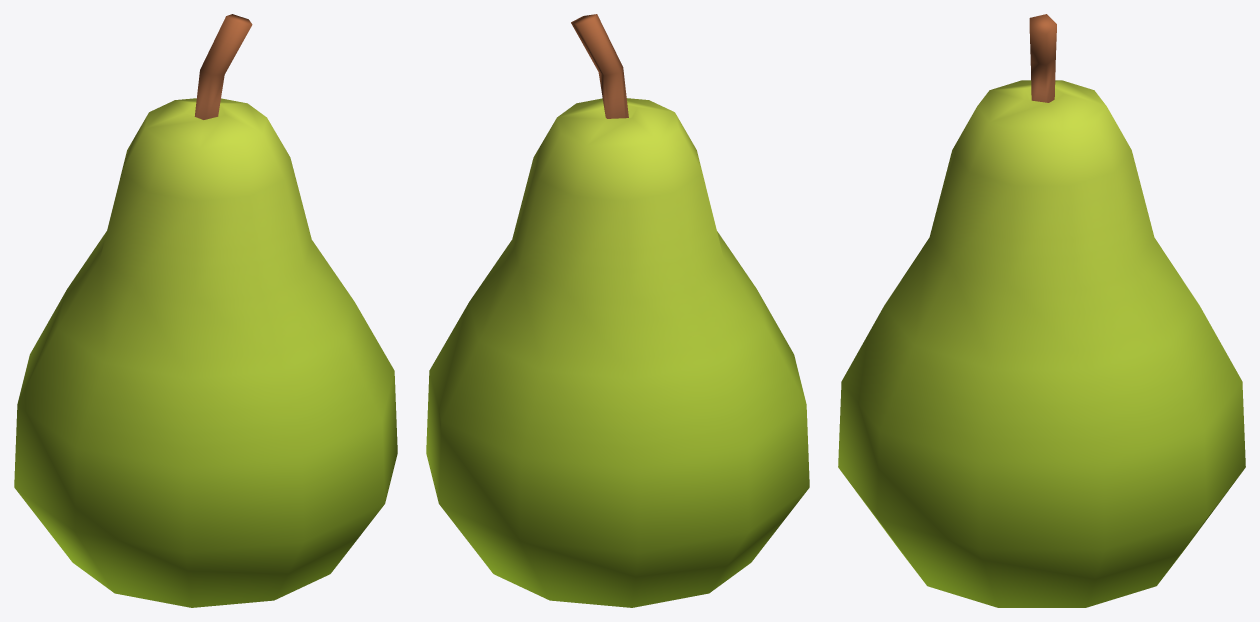
File: Pear.fbx
3 views of the same model, side by side, from view 1: azimuth 30°, elevation 25°; view 2: azimuth 150°, elevation 25°; view 3: azimuth 270°, elevation 25° (orthographic). The views are drawn at different scales.
Parts seen in each view (by area): view 1: Pear; view 2: Pear; view 3: Pear.
Part boxes in pixels (x1,y1,x2,y2): Pear: (14,14,397,607); Pear: (426,14,809,607); Pear: (838,14,1245,607).
Size of the model in its own units: 13.94 by 23.38 by 14.66.
